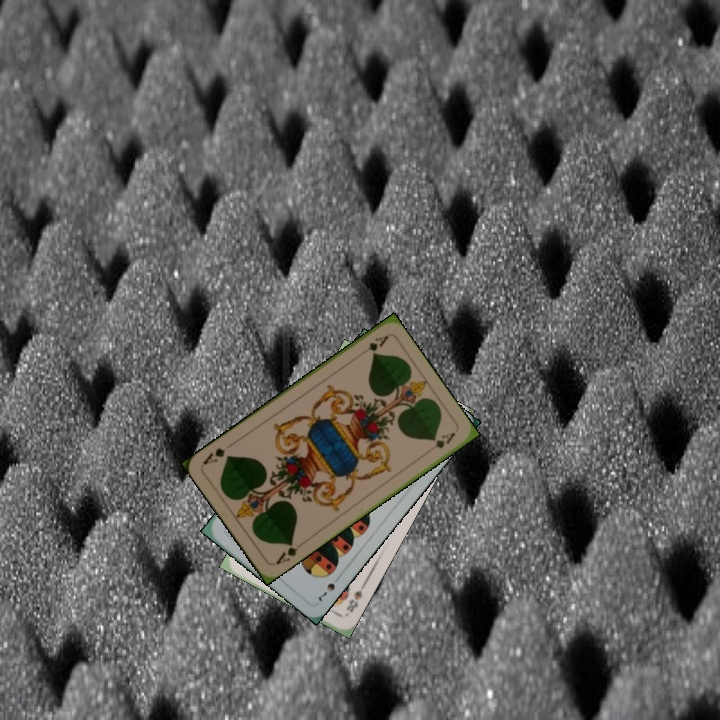GA: (355, 331, 391, 359), (272, 537, 300, 567)
S7: (314, 579, 337, 604)
S8: (342, 581, 367, 615)
